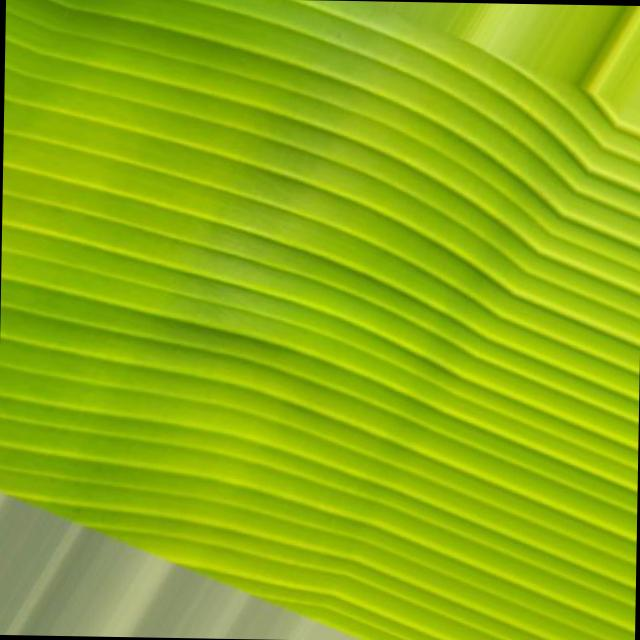Banana_Healthy: (0, 47, 640, 626)
